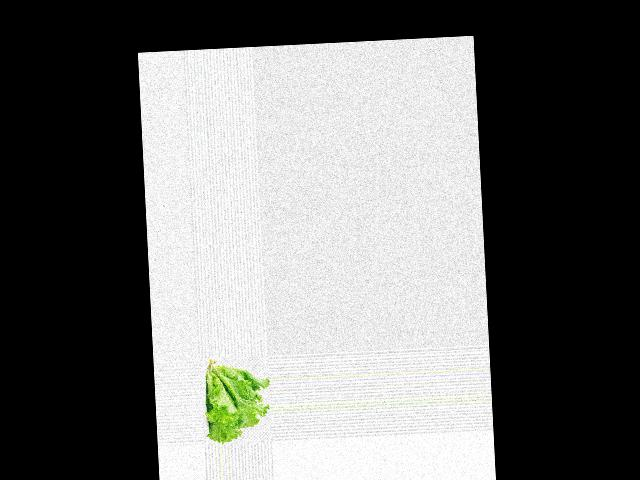lettuce: (205, 355, 271, 443)
